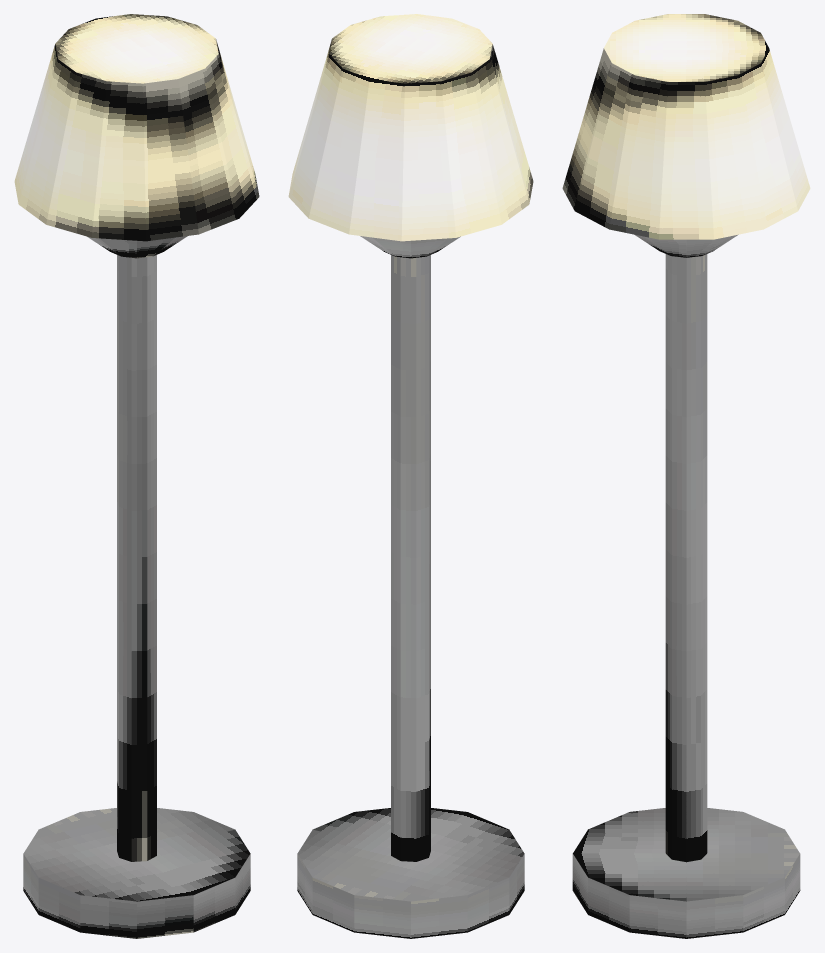
The model's file is Building_SunLamp.glb.
The picture shows the model from 3 angles, left to right: view 1: azimuth 30°, elevation 25°; view 2: azimuth 150°, elevation 25°; view 3: azimuth 270°, elevation 25°; orthographic projection.
Parts seen in each view (by area): view 1: SunLamp; view 2: SunLamp; view 3: SunLamp.
Boxes of the visible parts, bbox=[...] form: SunLamp: bbox=[14, 14, 259, 938]; SunLamp: bbox=[288, 14, 533, 938]; SunLamp: bbox=[562, 14, 810, 938].
Bounding box in the file's own units: 0.468 × 1.8 × 0.48.
Materials: 1 (1 with a texture image).
